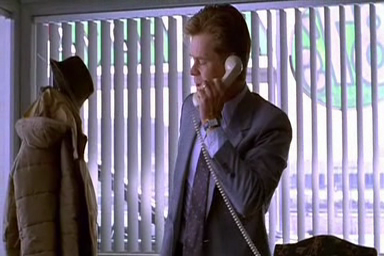face: (188, 47, 216, 95)
ms: (1, 1, 384, 256)
person: (159, 3, 293, 256)
